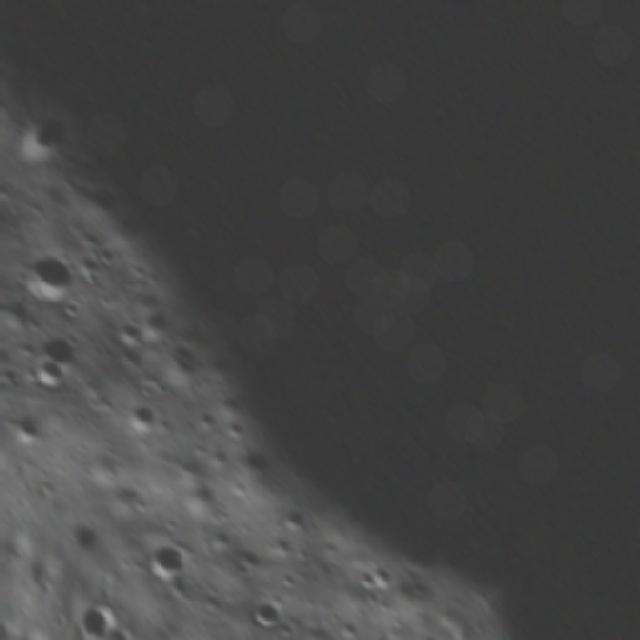crater: (7, 234, 85, 314), (28, 317, 89, 378), (13, 344, 75, 404), (132, 528, 192, 589), (23, 112, 85, 168), (238, 584, 293, 640), (116, 390, 169, 442), (1, 400, 50, 449), (70, 511, 105, 549), (102, 556, 130, 586), (2, 436, 29, 467), (238, 629, 292, 640), (0, 238, 9, 294)
